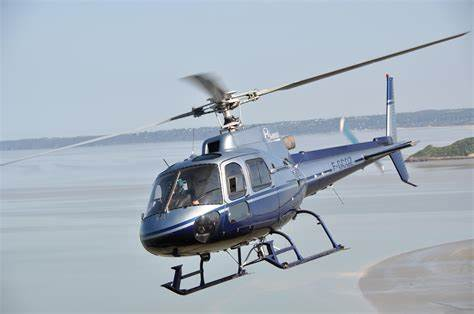Aeronef_commercial: (1, 28, 474, 298)
